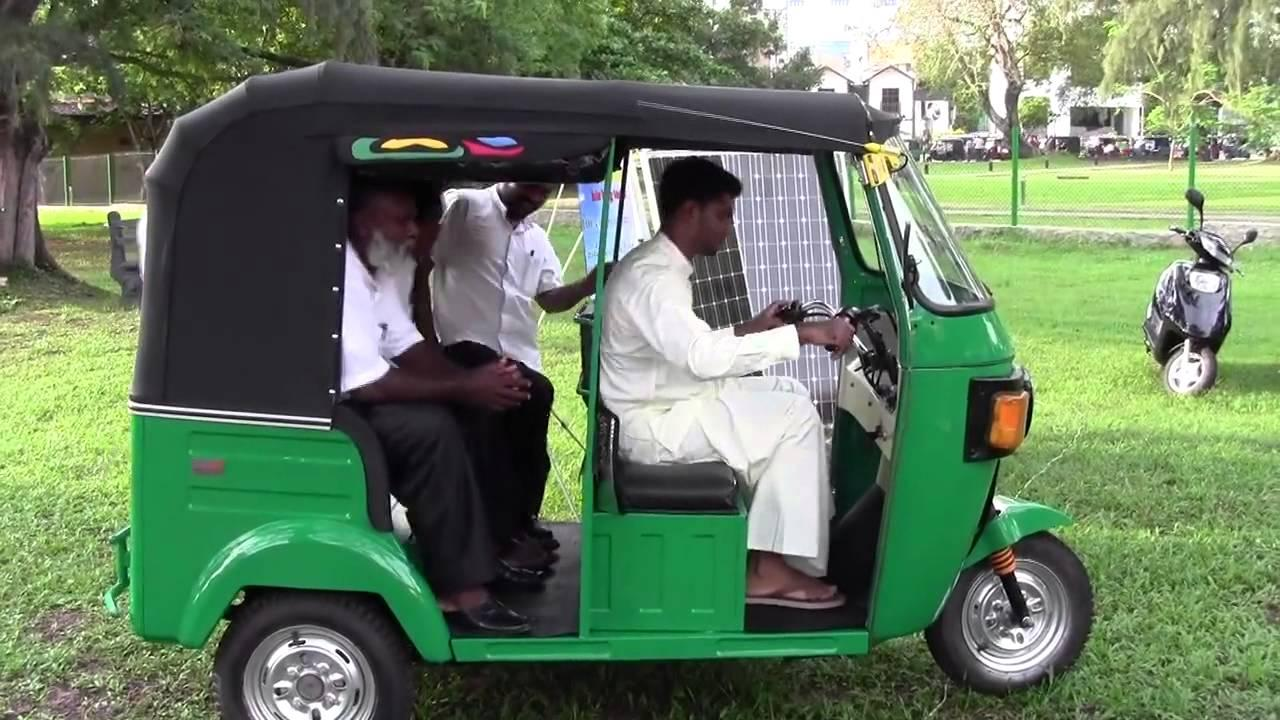motorbike: (1140, 191, 1257, 397)
threewheel: (128, 60, 1097, 720)
